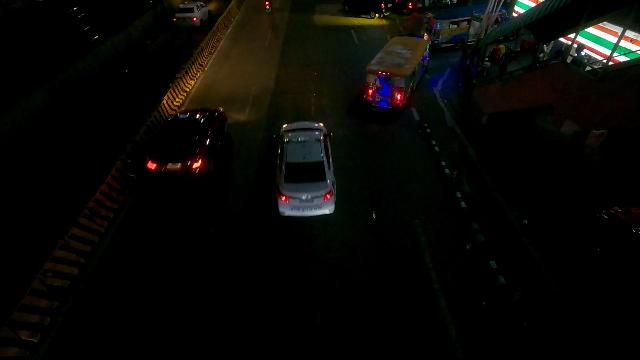car: (141, 107, 229, 178), (276, 121, 336, 216), (174, 0, 210, 27)
jeepney: (364, 36, 430, 109), (427, 7, 486, 52)
